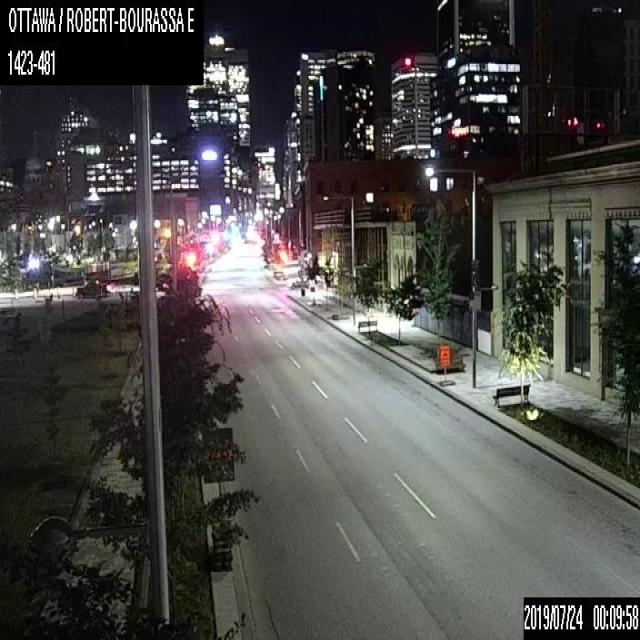construction: (200, 427, 234, 571), (438, 343, 453, 385)
vehicle: (74, 280, 106, 297)
